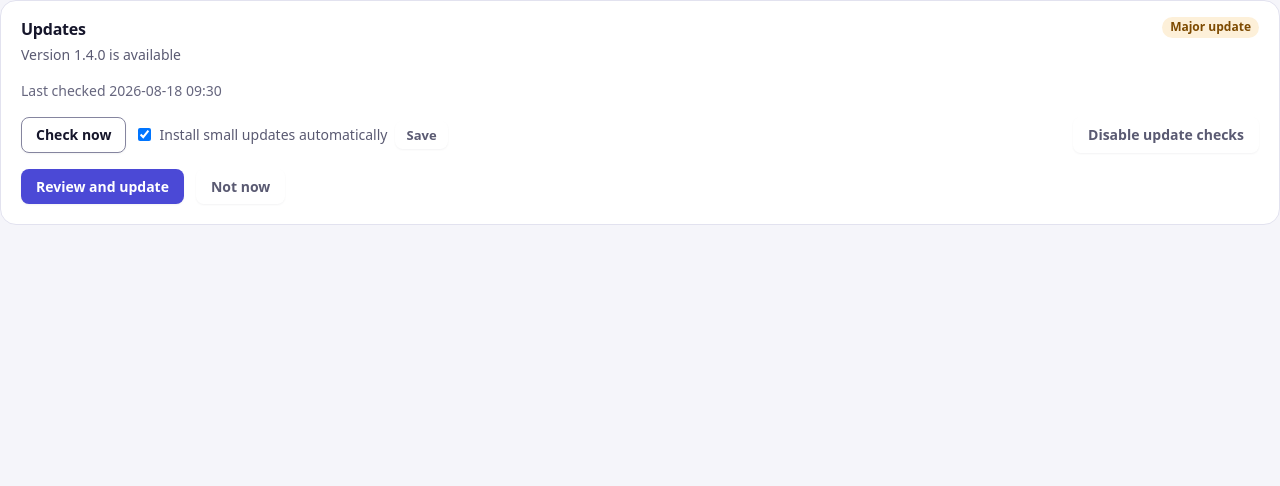
Scenario: MUST-4.8 / MUST-9.5: remote changelog markup renders as literal text › a bullet containing raw HTML is shown as characters, never interpreted
Click the button "Review and update" at (102, 186), box [21,168,184,204]
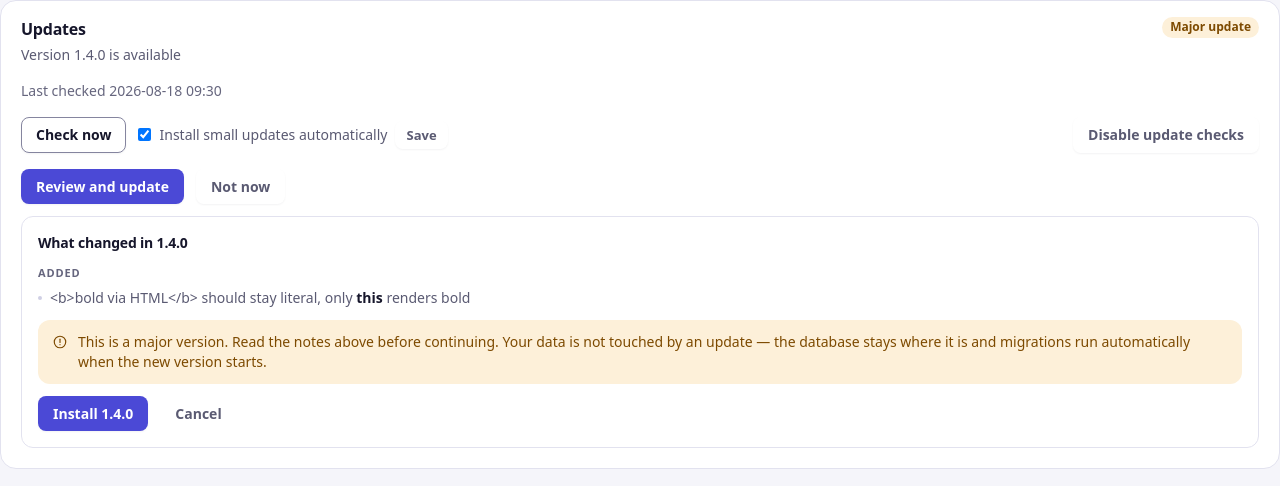
Now the text "should stay literal" is shown, box [50,288,356,306]
Now the text "this" is shown, box [356,288,383,306]
